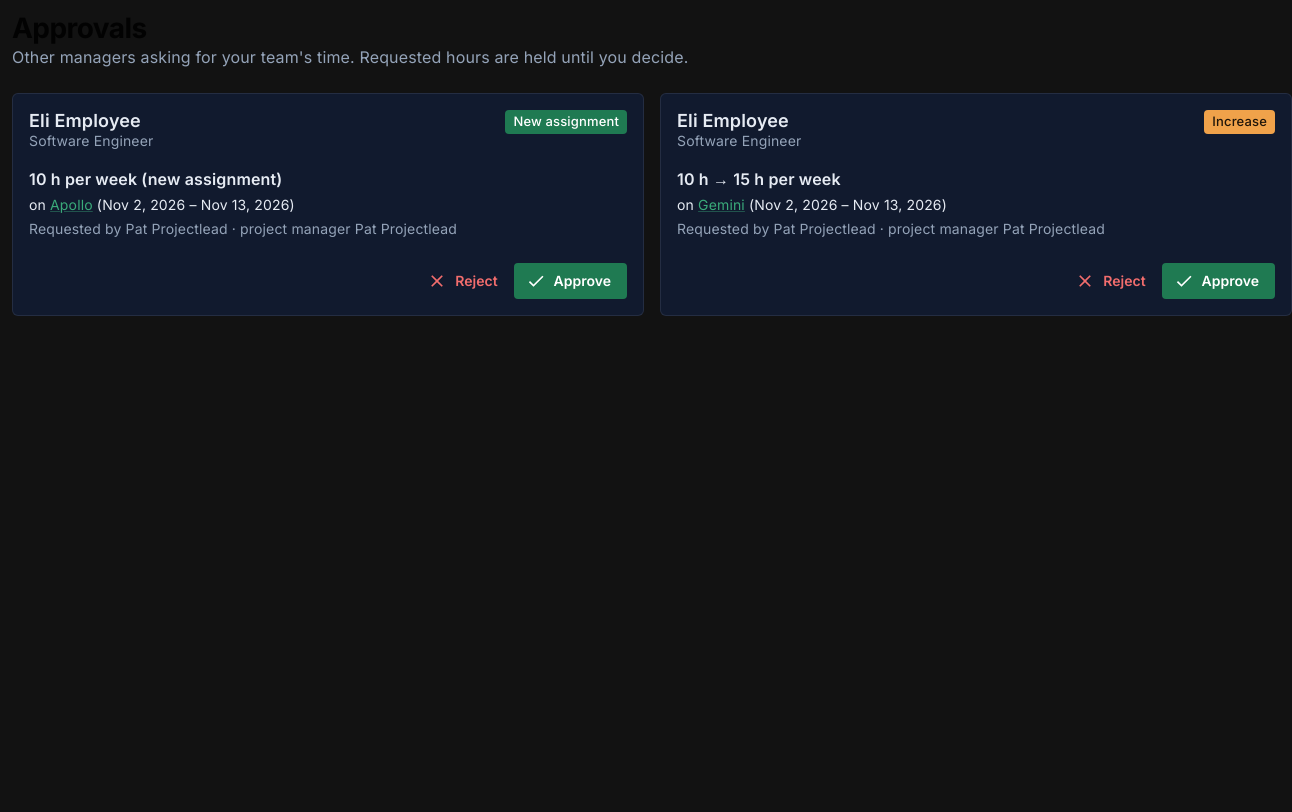
ApprovalsPage › shows the server error if a decision fails
This screenshot has width=1292, height=812.
Step 1. Click the button "Approve" below "10 h per week (new assignment)" → [570, 281], box [514,263,627,299]
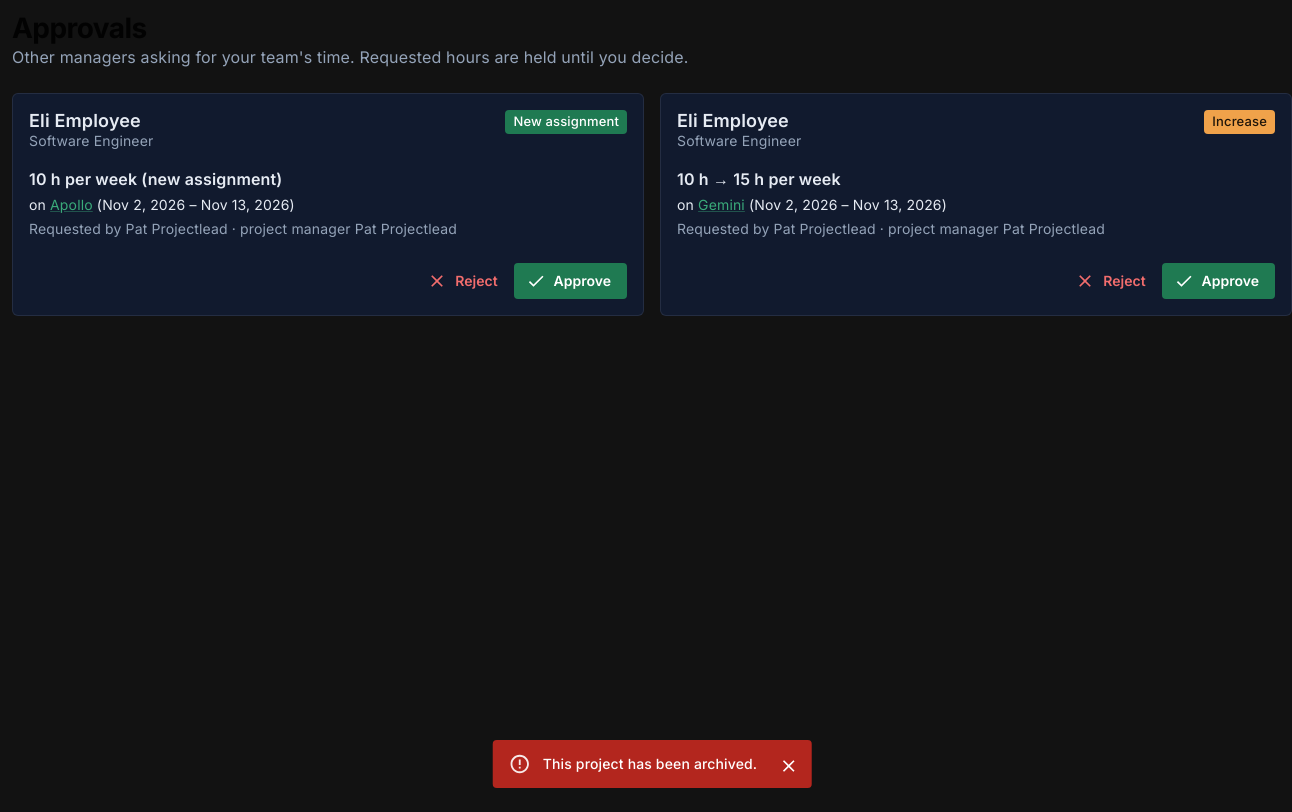
Result: the text "This project has been archived." is shown at [543,755,757,772]
